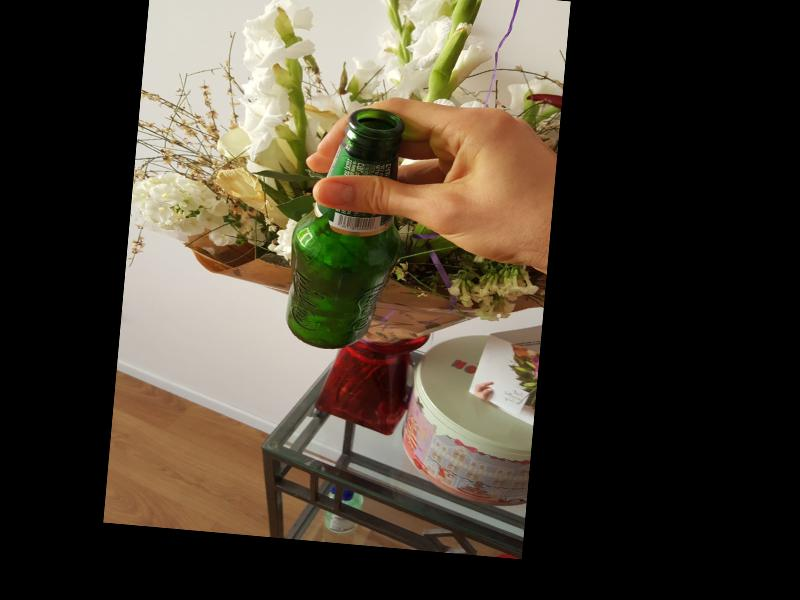Beer: (281, 104, 411, 355)
